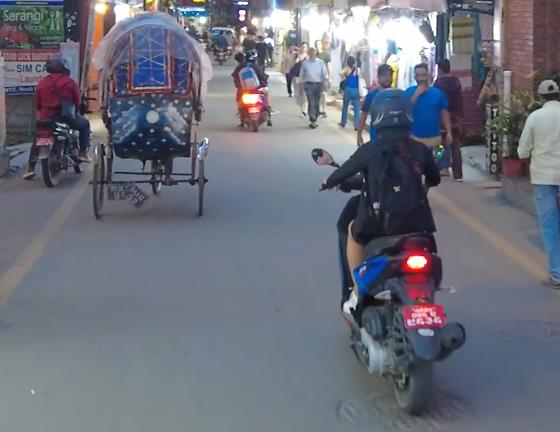bike: (34, 95, 101, 184)
scooter: (307, 149, 463, 412)
